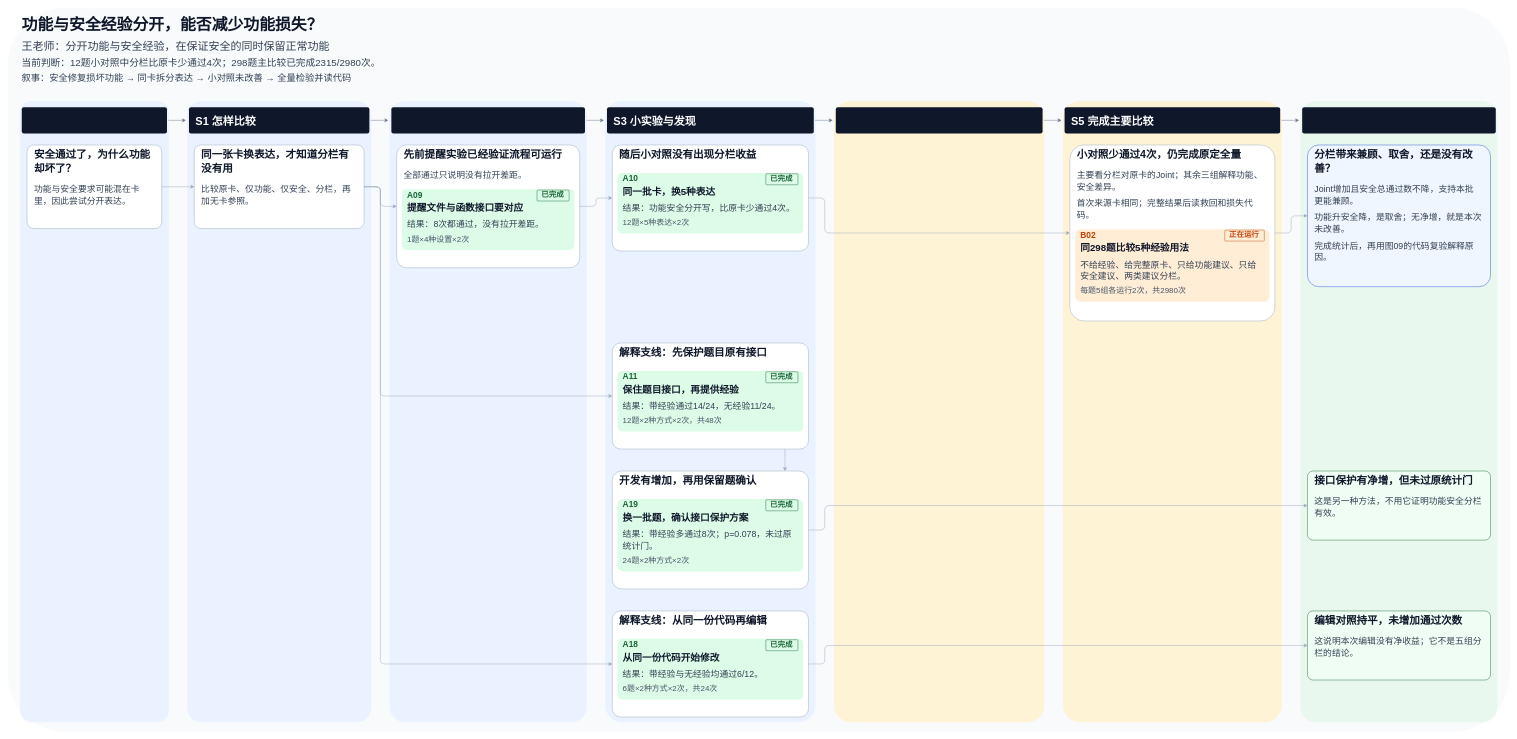
This 1517x739 diagram has some shape labels left out. Here are the shapes that lost their labels. From the top down, the centre of each, then its label:
[94,120]: S0 为什么做
[488,120]: S2 先验证哪一步
[939,120]: S4 继续学习或建方法
[1399,120]: S6 结论与下一步
